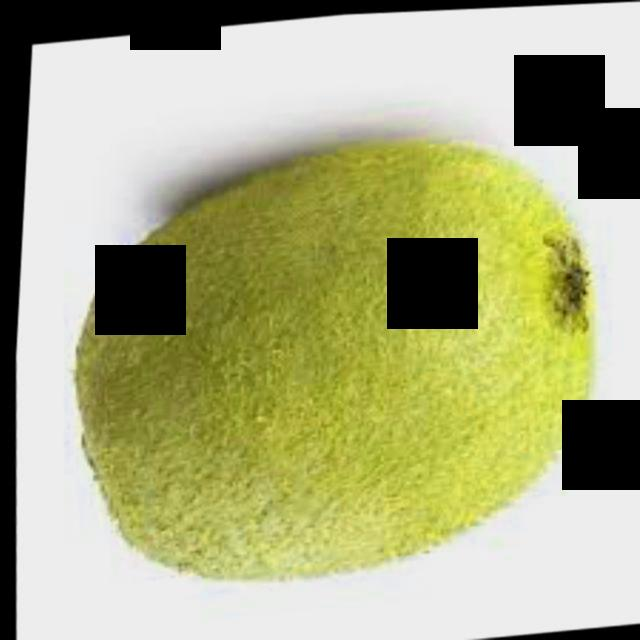kiwi: (54, 120, 615, 598)
